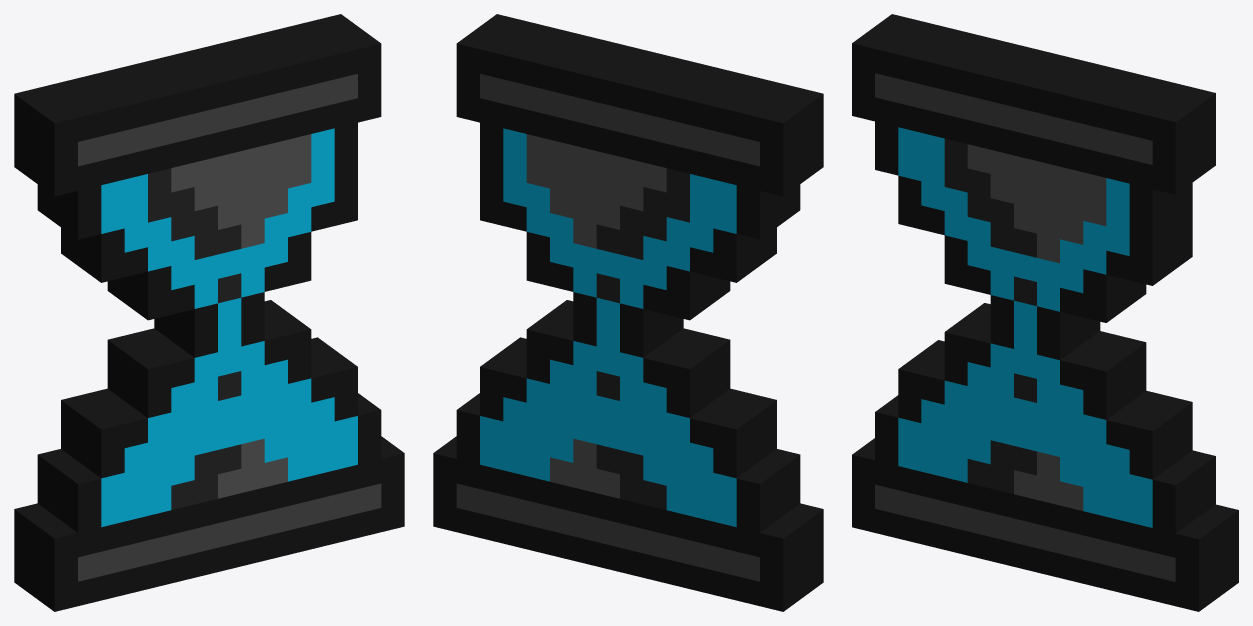
The model's file is time.obj.
The picture shows the model from 3 angles, left to right: view 1: azimuth 30°, elevation 25°; view 2: azimuth 150°, elevation 25°; view 3: azimuth 330°, elevation 25°; orthographic projection.
Bounding box in the file's own units: 1.5 × 2 × 0.3.
1 material, 1 textured.
